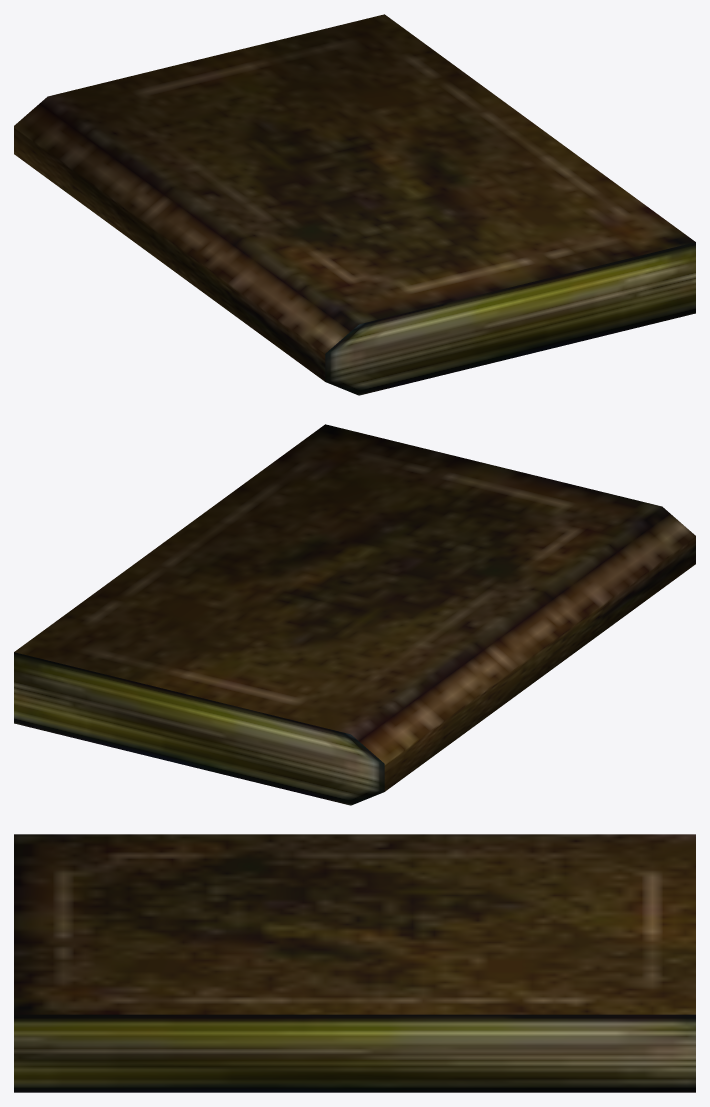
File: ITWR_BOOK_02_01.glb
3 renders of one model, top to bottom at view 1: azimuth 30°, elevation 25°; view 2: azimuth 150°, elevation 25°; view 3: azimuth 270°, elevation 25°, orthographic. The views are drawn at different scales.
Visible parts, largest first — view 1: Mesh; view 2: Mesh; view 3: Mesh.
Boxes of the visible parts, bbox=[...] form: Mesh: bbox=[14, 14, 695, 395]; Mesh: bbox=[14, 424, 695, 805]; Mesh: bbox=[14, 834, 695, 1092].
Bounding box in the file's own units: 0.22 × 0.0404 × 0.32.
Materials: 1 (1 with a texture image).
